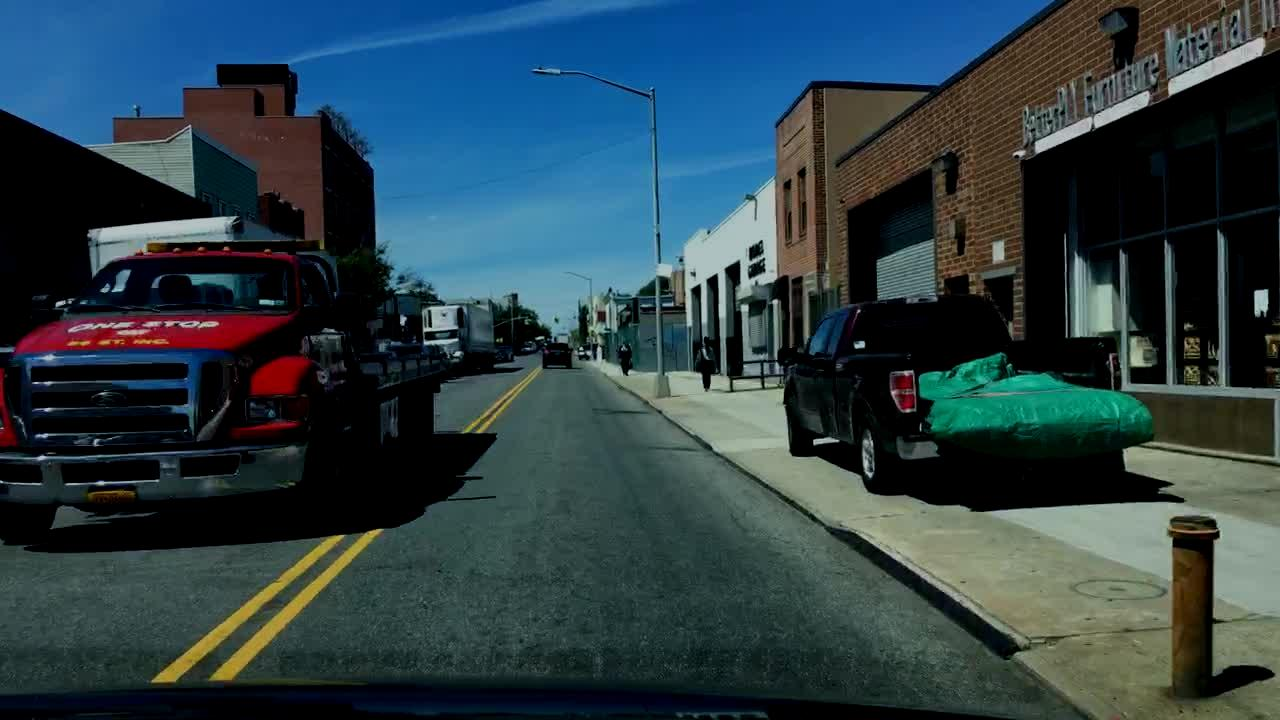ford: (88, 387, 129, 412)
